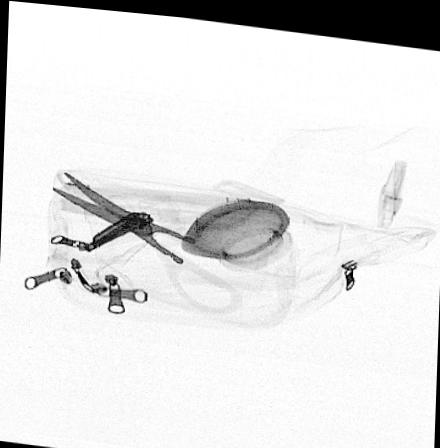Scissors: (44, 169, 269, 310)
